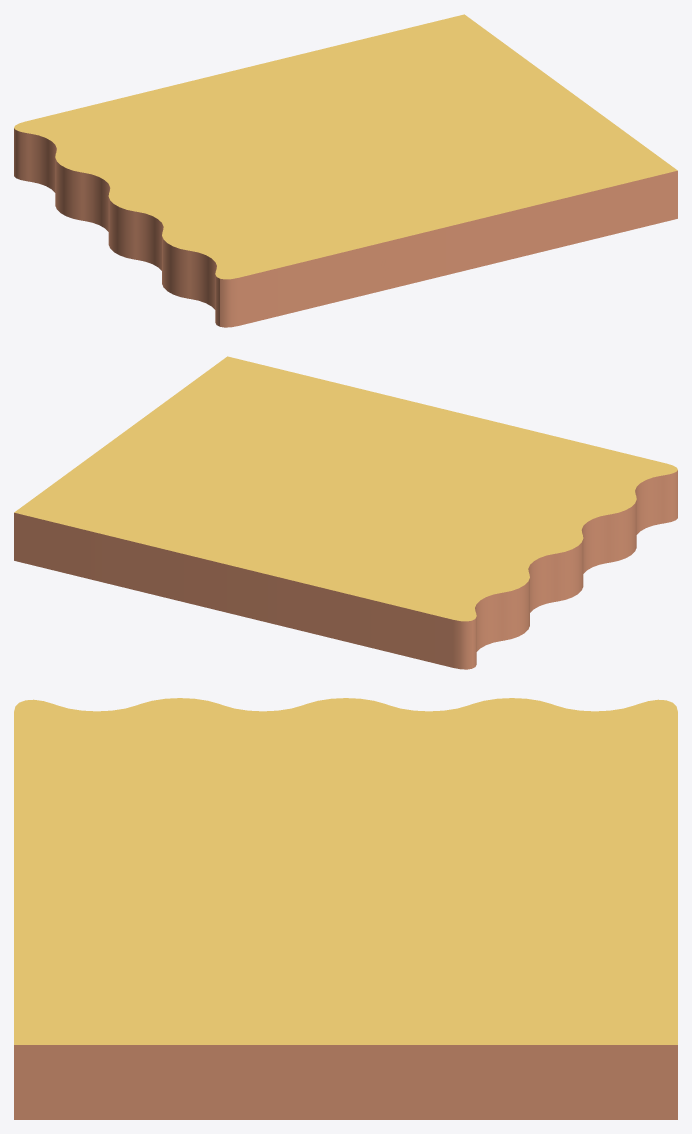
The model's file is Hill003.fbx.
3 renders of one model, top to bottom at view 1: azimuth 30°, elevation 25°; view 2: azimuth 150°, elevation 25°; view 3: azimuth 270°, elevation 25°, orthographic. The views are drawn at different scales.
Parts seen in each view (by area): view 1: Hill003; view 2: Hill003; view 3: Hill003.
Part boxes in pixels (x1=…): Hill003: x1=14, y1=14, x2=677, y2=327; Hill003: x1=14, y1=356, x2=677, y2=669; Hill003: x1=14, y1=698, x2=677, y2=1119.
Bounding box in the file's own units: 1988 × 200 × 1607.
